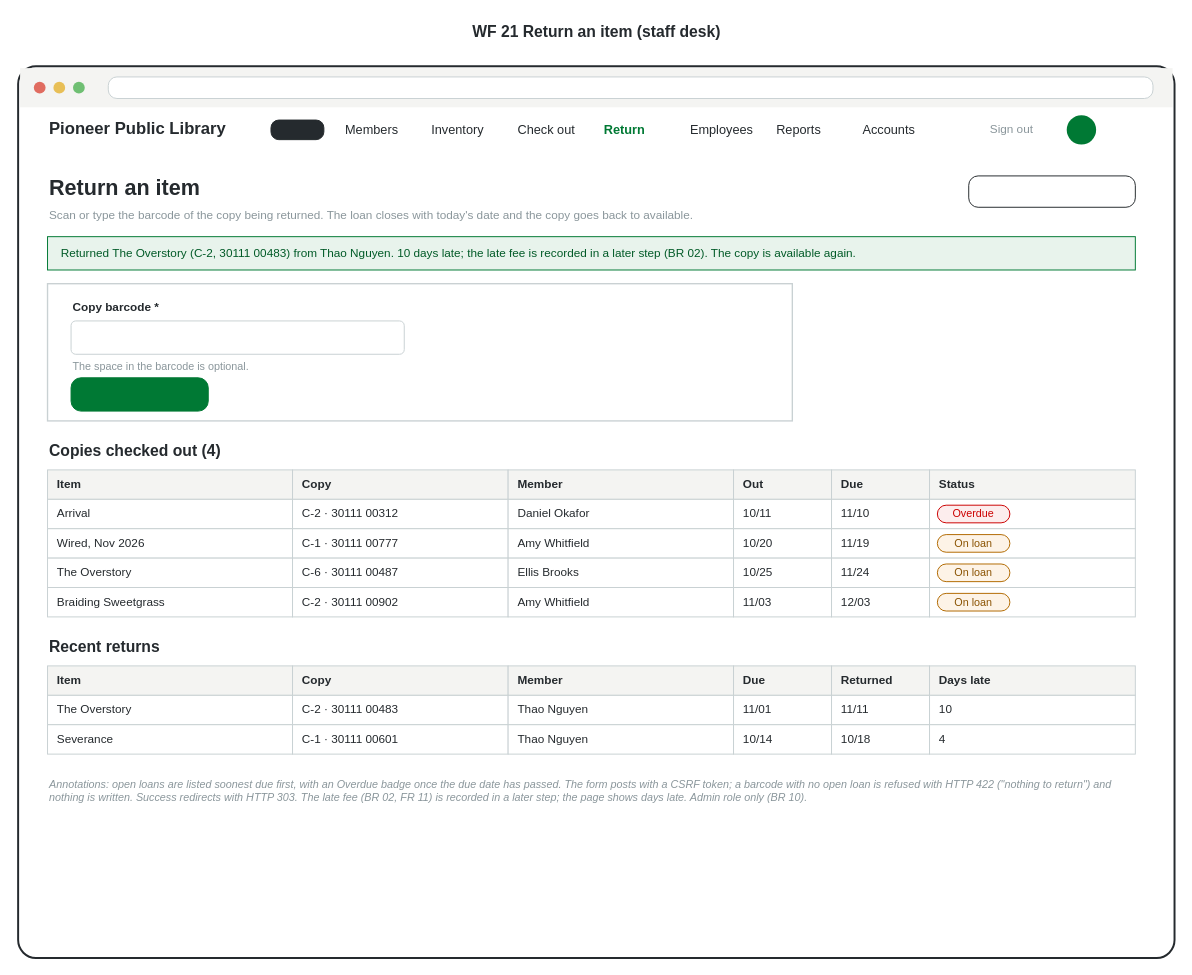
Image size: 1192x975. Some labels were removed from this diagram. The shapes that lost their labels are listed below. From the top down, each one's box as (x1, y1, x2, y2) in pixels, then its label:
(107, 76, 1153, 98): pioneerlibrary.org/circulation/return.php
(270, 119, 324, 140): Admin
(1066, 115, 1096, 144): BS
(968, 175, 1135, 207): Check out an item
(70, 320, 404, 354): Scan or type a barcode
(70, 377, 208, 411): Record return
